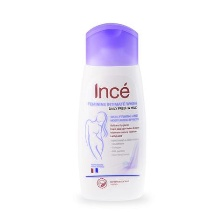bottle: (73, 18, 148, 204)
